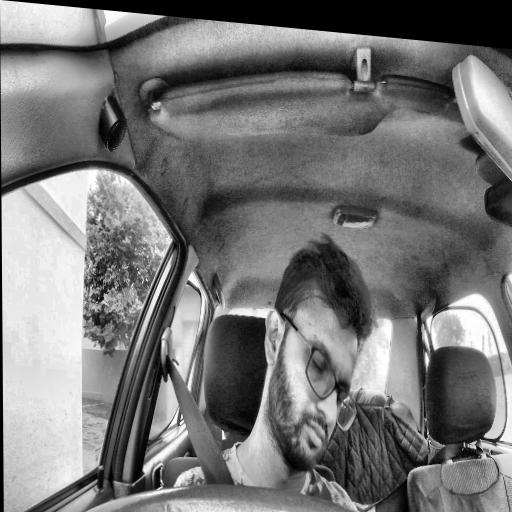drowsy: (263, 228, 378, 482)
